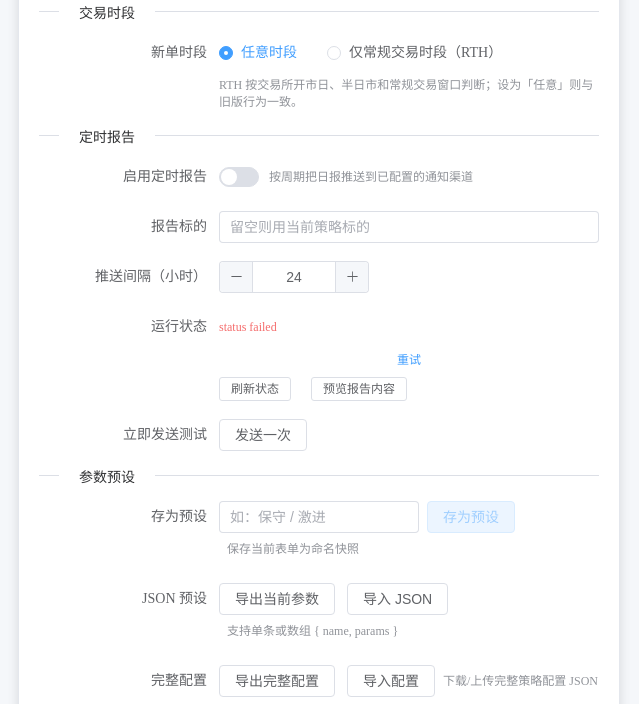
Test: Scheduled report diagnostics › shows an error state and recovers via explicit refresh
The image size is (639, 704).
(page scrolled)
Expected: the text "status failed" is shown, [219, 320, 277, 334]
Click the button with test id "report-schedule-status-retry": (409, 360) [219, 351, 599, 369]
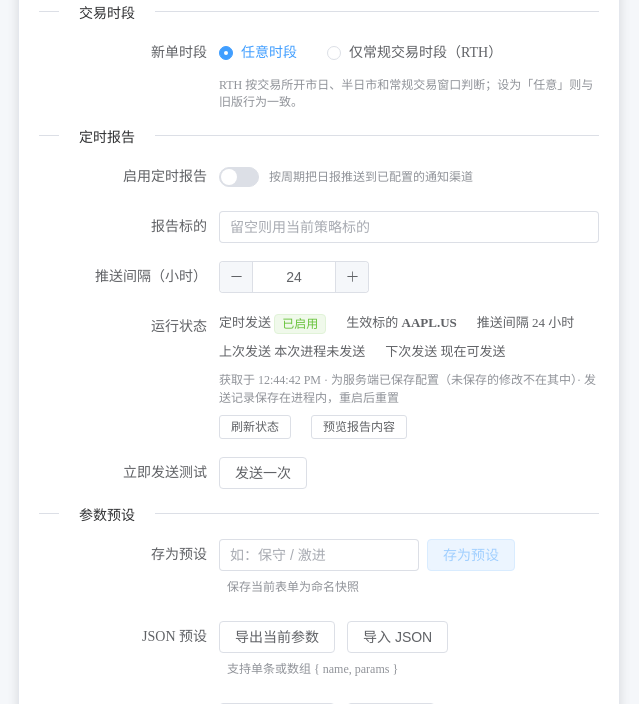
Expected: the text with test id "report-schedule-enabled-tag" reads "已启用", [282, 317, 318, 331]
